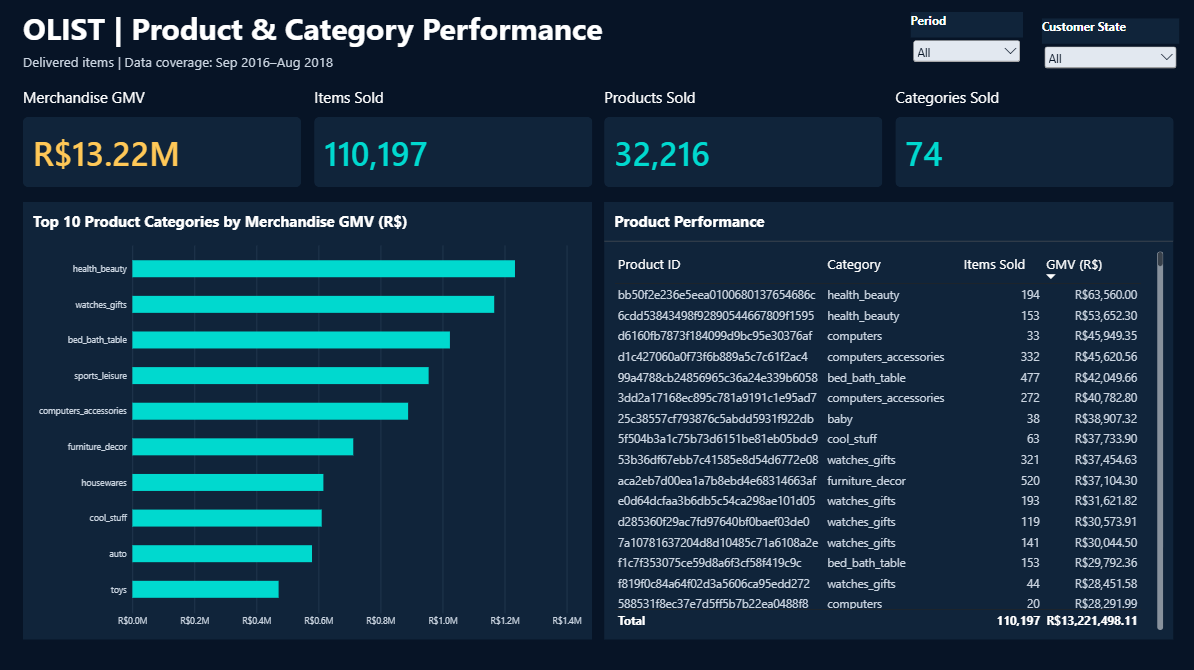

The dashboard page shown, as its layout file describes it:
{"tool":"powerbi","page":{"name":"Product & Category Performance","canvas":[1920,1080],"ordinal":1},"visuals":[{"type":"clusteredBarChart","title":"Top 10 Product Categories by Merchandise GMV (R$)","fields":{"Category":["dim_products.product_category_name_analysis"],"Y":["fact_order_items.Merchandise GMV"]},"box":[40,328,910,700],"z":0},{"type":"textbox","box":[40,16,1400,80],"z":1000},{"type":"textbox","box":[40,88,1400,32],"z":2000},{"type":"cardVisual","title":"Merchandise GMV","fields":{"Data":["fact_order_items.Merchandise GMV"]},"box":[40,144,445,160],"z":3000},{"type":"cardVisual","title":"Items Sold","fields":{"Data":["fact_order_items.Items Sold"]},"box":[505,144,445,160],"z":4000},{"type":"cardVisual","title":"Products Sold","fields":{"Data":["fact_order_items.Products Sold"]},"box":[970,144,445,160],"z":5000},{"type":"cardVisual","title":"Categories Sold","fields":{"Data":["fact_order_items.Categories Sold"]},"box":[1435,144,445,160],"z":6000},{"type":"tableEx","title":"Product Performance","fields":{"Values":["dim_products.product_id","dim_products.product_category_name_analysis","fact_order_items.Items Sold","fact_order_items.Merchandise GMV"]},"box":[970,328,910,700],"z":7000},{"type":"slicer","title":"Period","fields":{"Values":["dim_date.year_month"]},"box":[1460,24,180,88],"z":8000},{"type":"slicer","title":"Customer State","fields":{"Values":["dim_customer_state.customer_state"]},"box":[1670,34,220,88],"z":9001}]}

Visuals, with their boxes in screenshot pixels (x1, y1, x2, y2), scaled from the page's 1920x1080 canvas onto the 1194x670 screenshot:
"Top 10 Product Categories by Merchandise GMV (R$)" clusteredBarChart: rect(25, 203, 591, 638)
textbox: rect(25, 10, 895, 60)
textbox: rect(25, 55, 895, 74)
"Merchandise GMV" cardVisual: rect(25, 89, 302, 189)
"Items Sold" cardVisual: rect(314, 89, 591, 189)
"Products Sold" cardVisual: rect(603, 89, 880, 189)
"Categories Sold" cardVisual: rect(892, 89, 1169, 189)
"Product Performance" tableEx: rect(603, 203, 1169, 638)
"Period" slicer: rect(908, 15, 1020, 69)
"Customer State" slicer: rect(1039, 21, 1175, 76)
